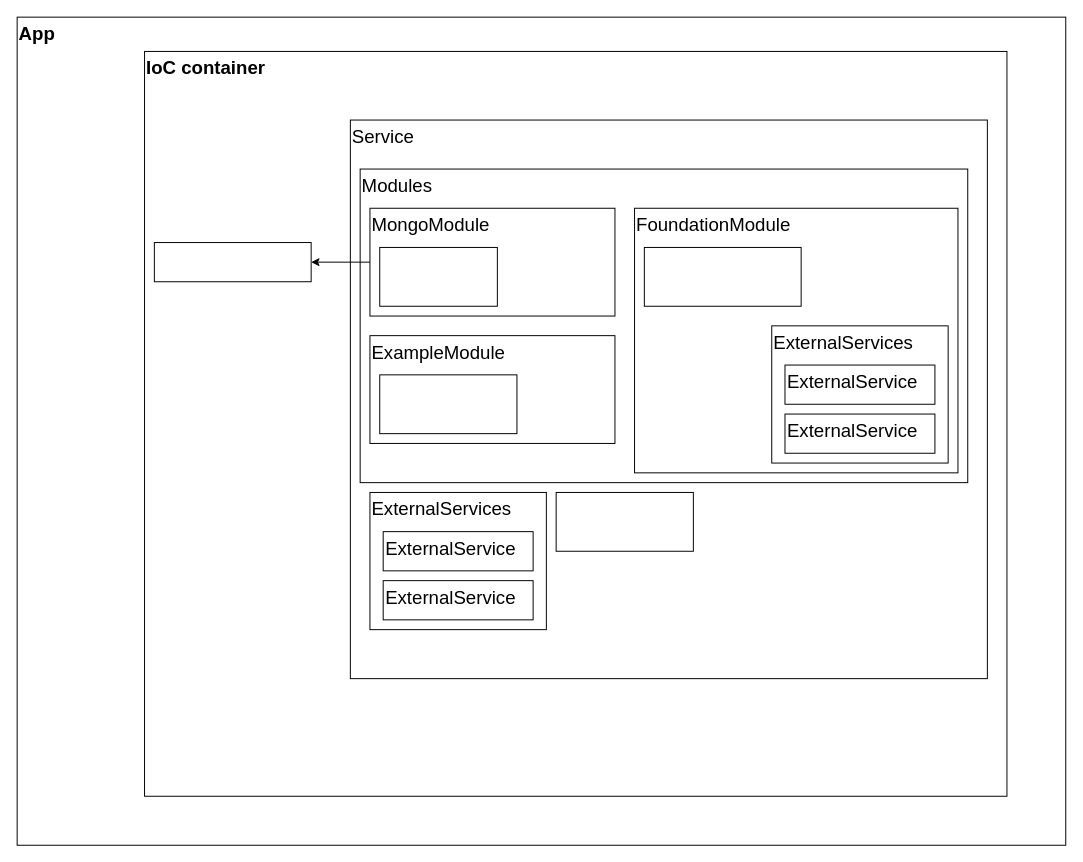
The diagram is 1083 pixels wide and 862 high, and some of its shapes have lost their labels. Each missing label, with the centre of its shape:
"ExampleConfig" goes at (x=448, y=404).
"FoundationConfig" goes at (x=722, y=276).
"Mongo(Injectable)" goes at (x=232, y=262).
"MongoConfig" goes at (x=438, y=276).
"ServiceConfig" goes at (x=624, y=521).
